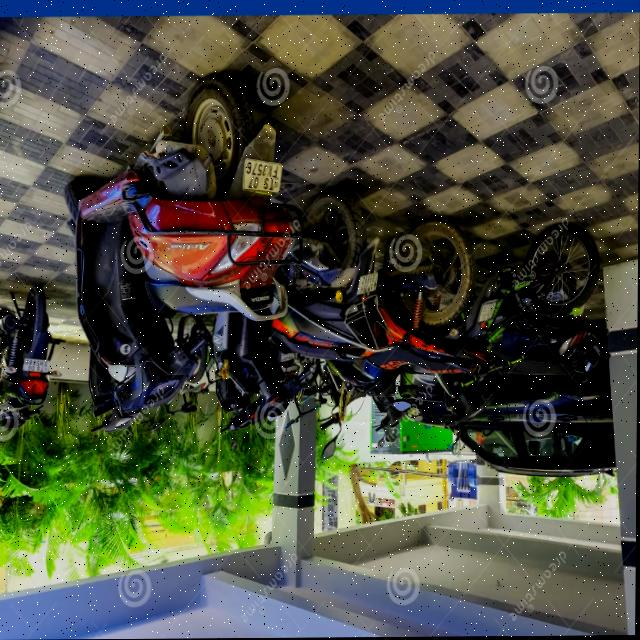plate: (241, 159, 287, 200), (356, 271, 383, 300), (22, 355, 54, 377), (478, 298, 501, 326)
